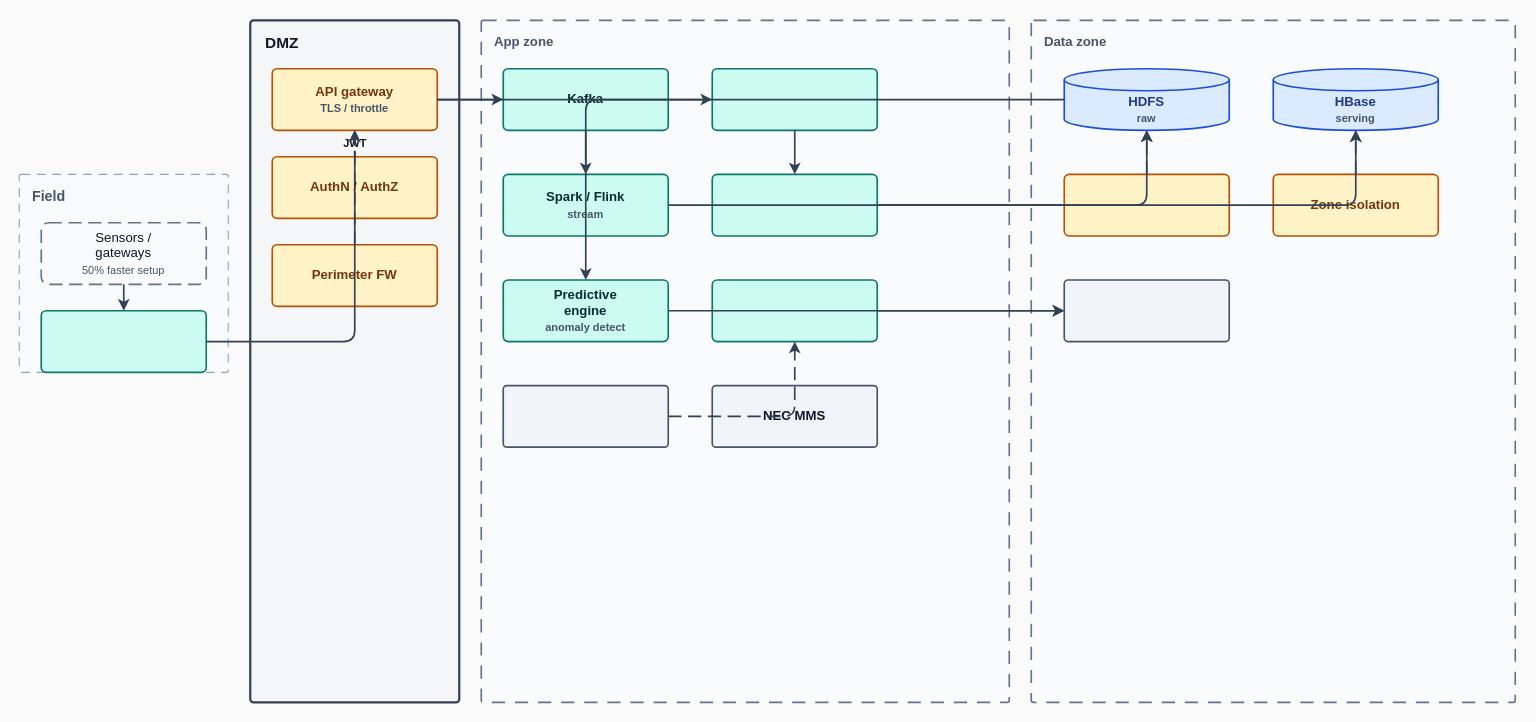
Image size: 1536x722. Some labels were removed from this diagram. The shapes that lost their labels are listed below. From the top down, each one's centre as x and y in pixels, then its label:
At pixel 794 99: "MQTT".
At pixel 794 204: "Hadoop + Spark batch / ETL".
At pixel 1146 204: "ACL / Kerberos".
At pixel 794 310: "Ops APIs".
At pixel 1146 310: "Ops dashboards".
At pixel 123 341: "Edge preprocess filter / translate".
At pixel 585 415: "Kubernetes".
